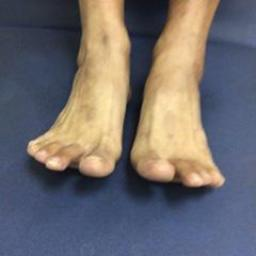Front View -Both Feet-: (18, 1, 236, 216)
